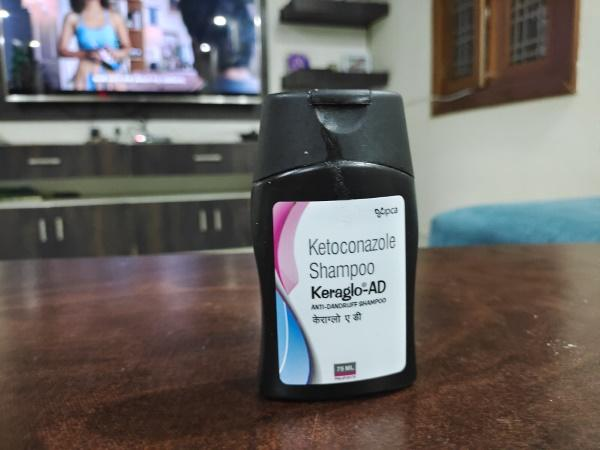KeraGlo: (242, 85, 433, 403)
